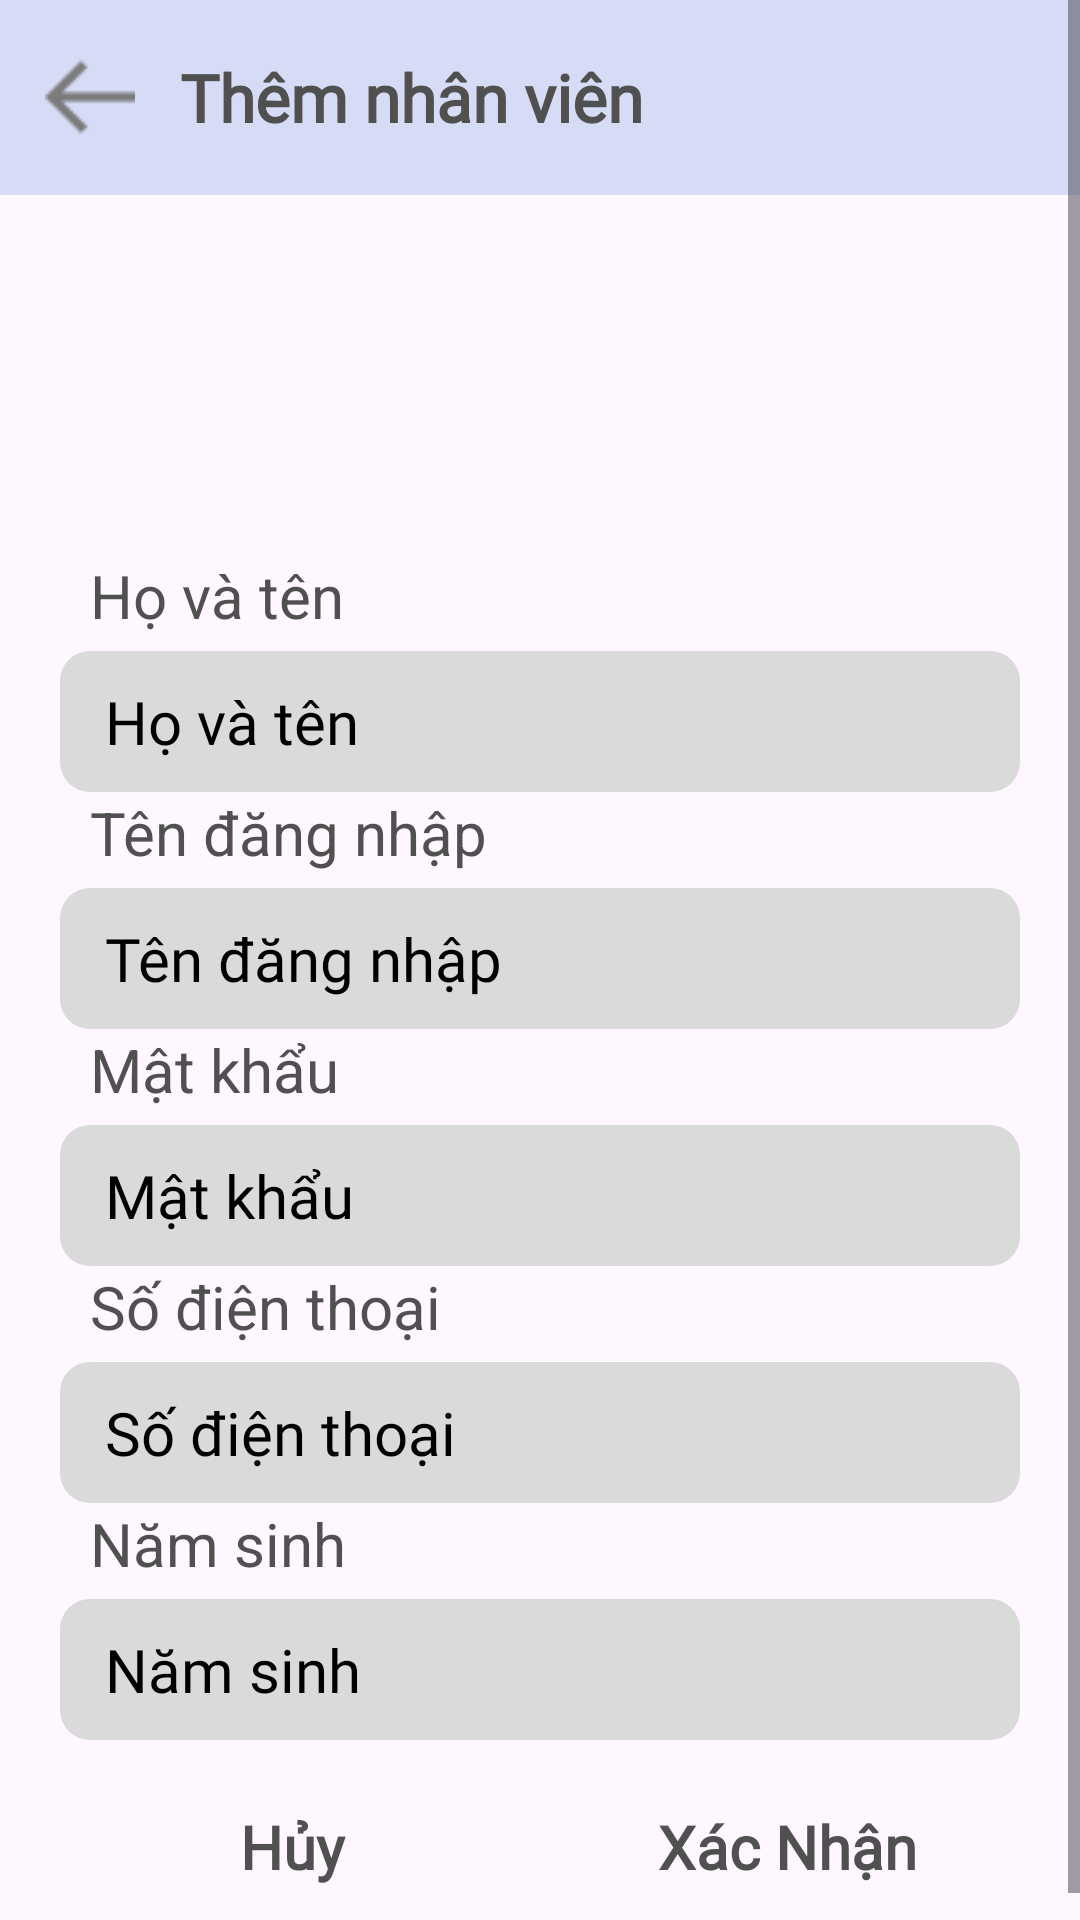

Named icons in this screenshot (1080 × 1920) and their centers, (x,y):
leftarrow: (90,97)
